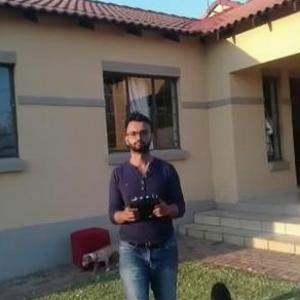follow: (103, 106, 192, 299)
null: (77, 240, 118, 276)
